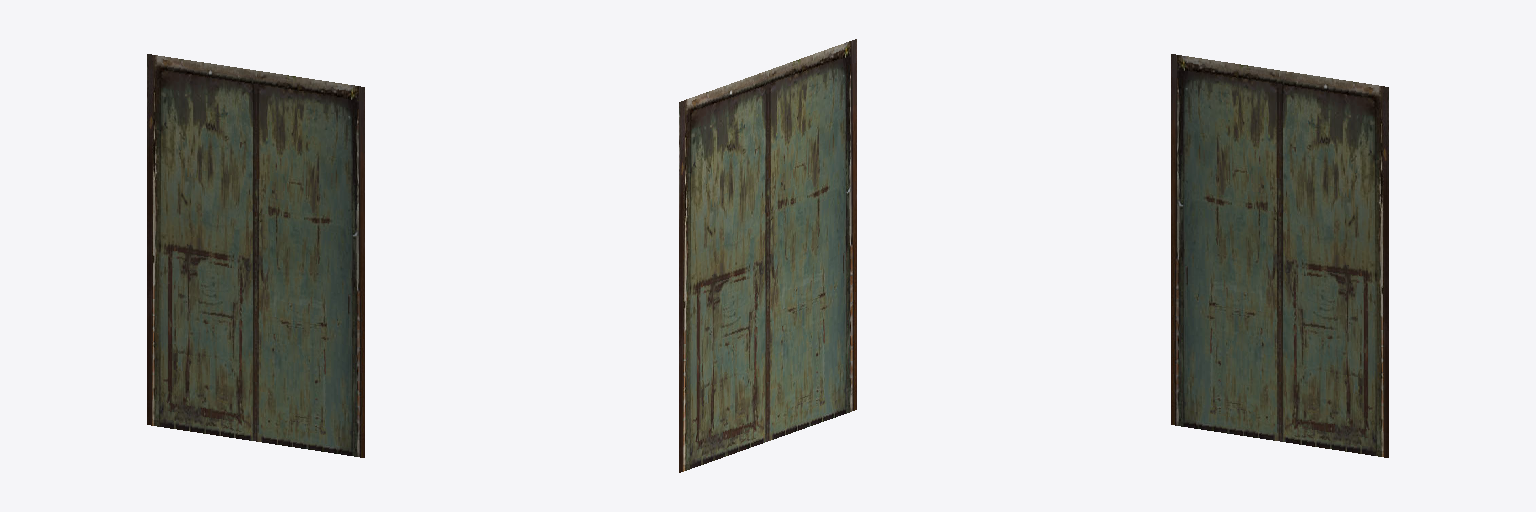
The picture shows the model from 3 angles: view 1: azimuth 90°, elevation 25°; view 2: azimuth 150°, elevation 25°; view 3: azimuth 270°, elevation 25°; orthographic projection.
Visible parts, largest first — view 1: door_Cube.002; view 2: door_Cube.002; view 3: door_Cube.002.
Part boxes in pixels (x1,y1,x2,y2): door_Cube.002: (147,54,364,457); door_Cube.002: (679,39,856,472); door_Cube.002: (1171,54,1388,457).
Bounding box in the file's own units: 2.57 × 13.34 × 7.13.
Materials: 1 (1 with a texture image).